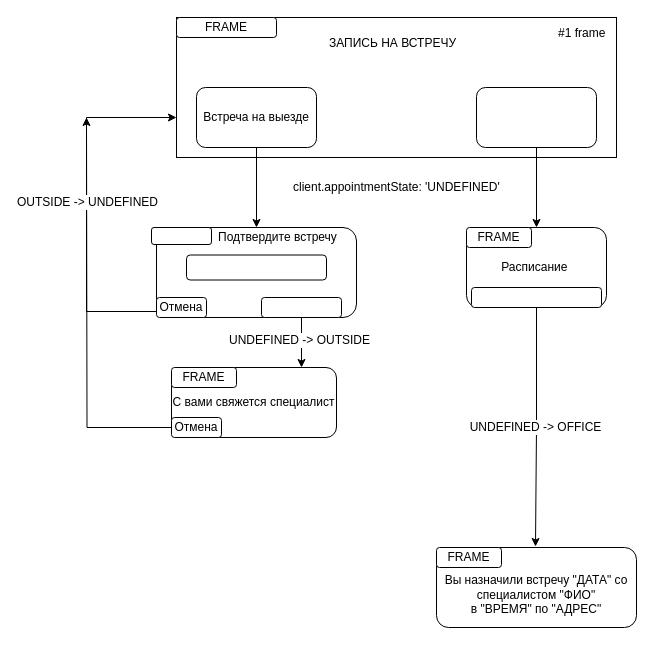
This 655x645 diagram has some shape labels left out. Each missing label, with the centre of its shape:
MODAL: point 181,235
выбрать метро?: point 256,267
Договорились: point 301,307
Записаться на дату: point 536,297
Запись в банк: point 536,117
